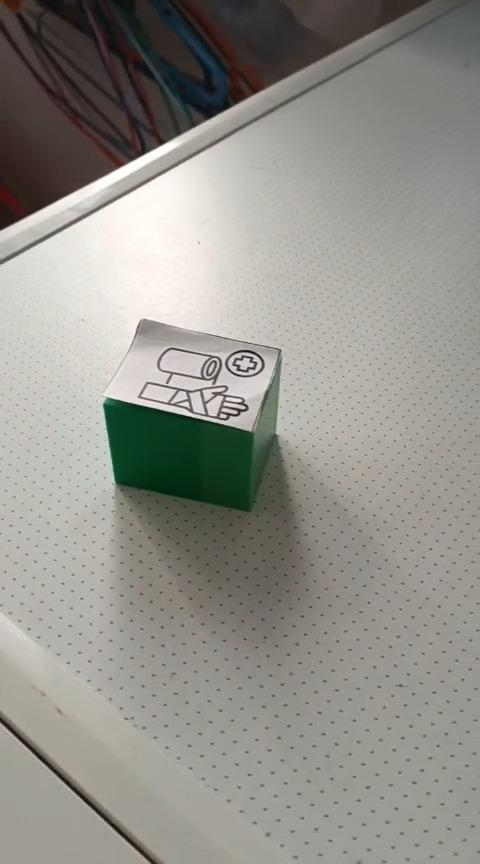Bandages: (101, 317, 283, 513)
